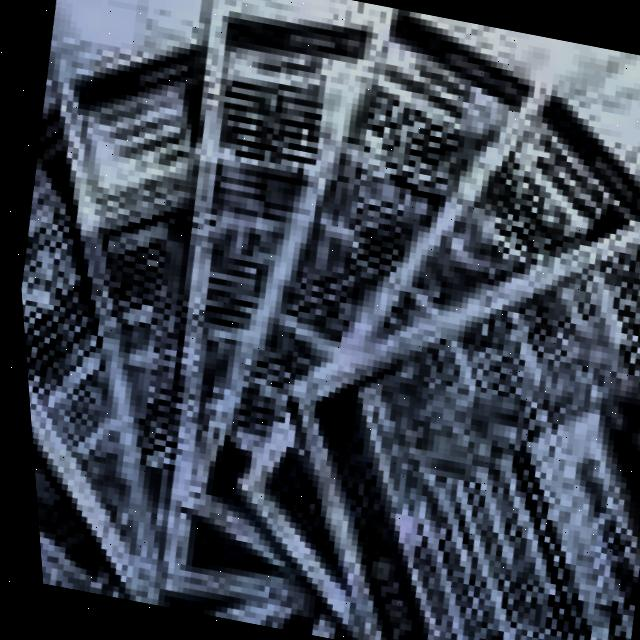paper: (17, 0, 640, 640)
